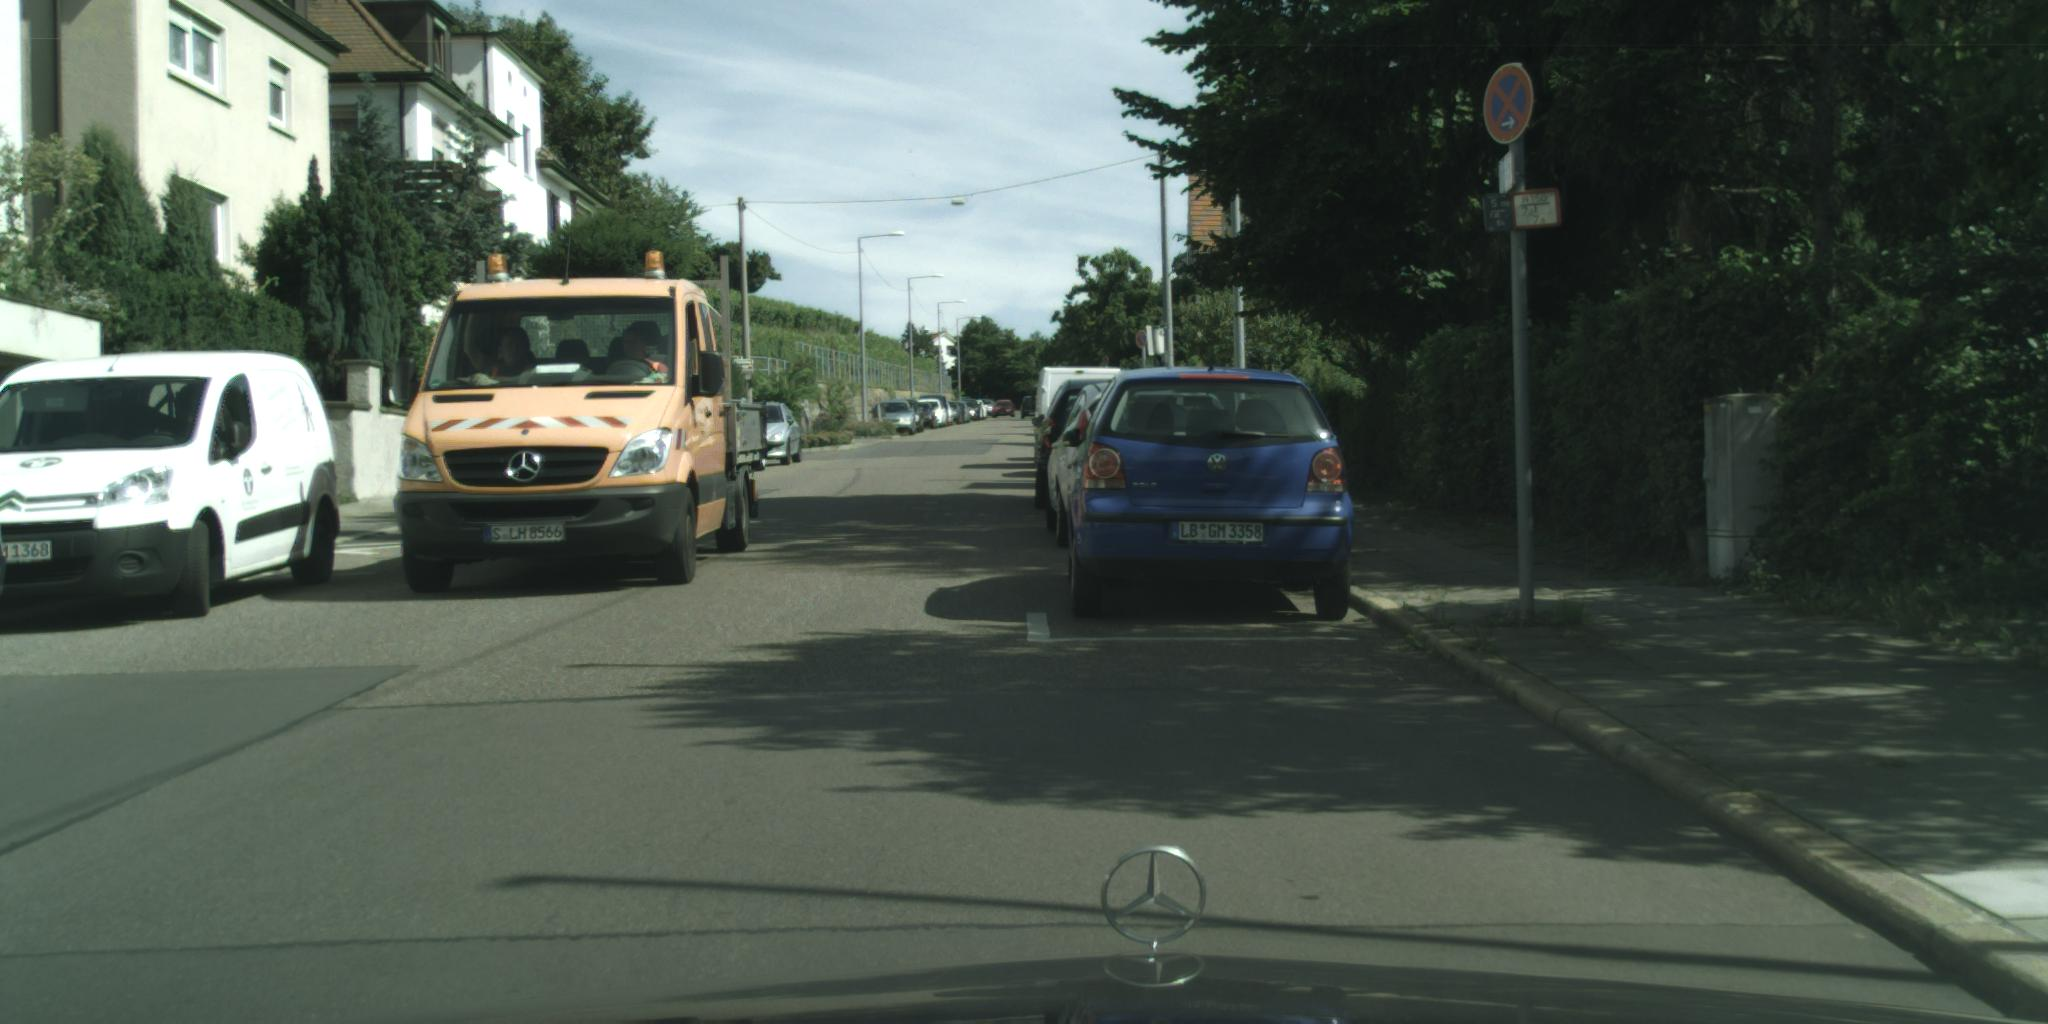car: (1, 350, 344, 620), (1059, 366, 1358, 623), (1044, 377, 1131, 546), (1028, 372, 1121, 515), (1033, 362, 1132, 472), (759, 404, 803, 468), (869, 398, 918, 436), (1021, 394, 1048, 421), (970, 397, 999, 419), (990, 400, 1016, 419)
truck: (394, 239, 768, 596)
